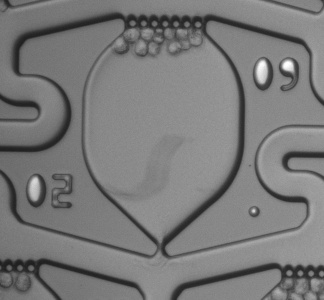AptNum: (246, 52, 308, 97)
Marker: (240, 198, 270, 225)
StNum: (18, 166, 80, 216)
Trap: (139, 247, 183, 289)
